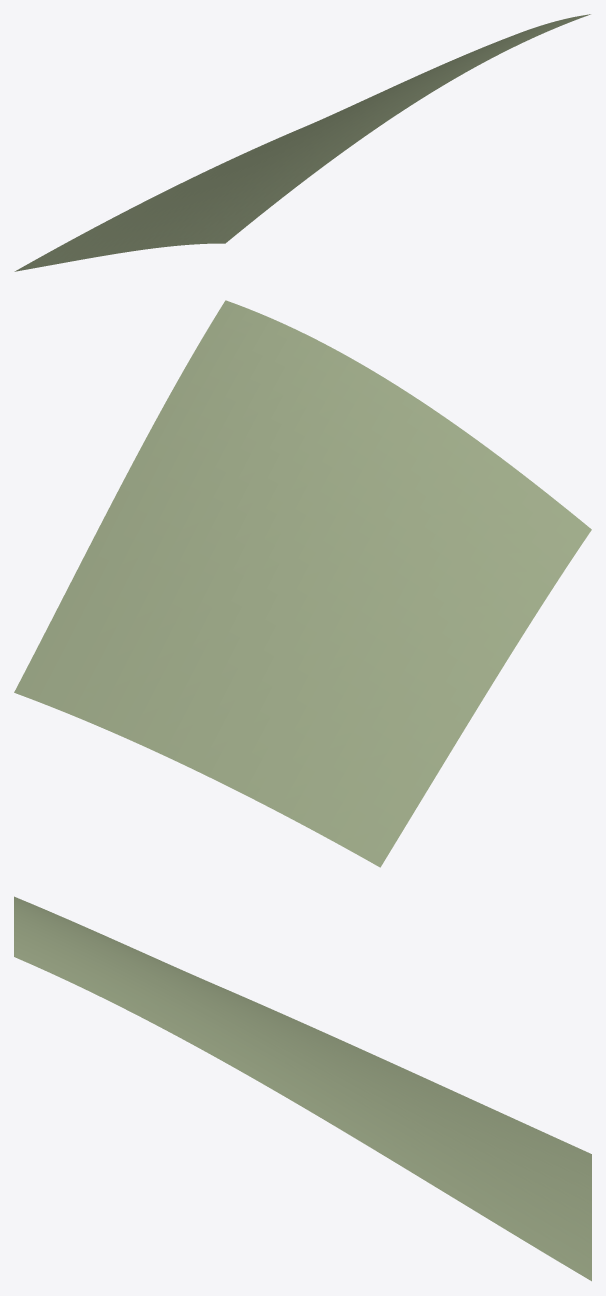
The model's file is alpine-7-5.glb.
3 renders of one model, top to bottom at view 1: azimuth 30°, elevation 25°; view 2: azimuth 150°, elevation 25°; view 3: azimuth 270°, elevation 25°, orthographic. The views are drawn at different scales.
Visible parts, largest first — view 1: alpine-7-5; view 2: alpine-7-5; view 3: alpine-7-5.
Boxes of the visible parts, x1=… form: alpine-7-5: x1=14, y1=14, x2=590, y2=271; alpine-7-5: x1=14, y1=300, x2=591, y2=867; alpine-7-5: x1=14, y1=896, x2=591, y2=1281.
Bounding box in the file's own units: 256 × 216 × 256.
